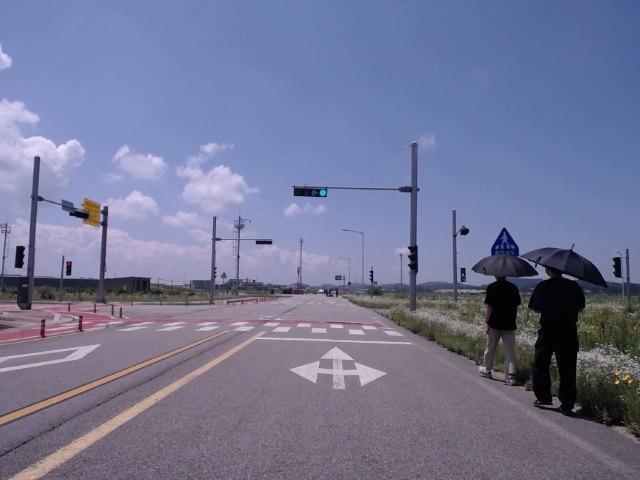all_green_4: (294, 185, 331, 200)
